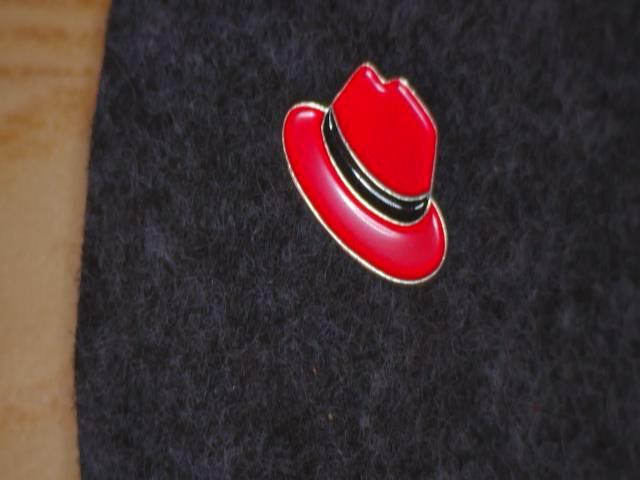Red-Hat: (257, 31, 477, 313)
